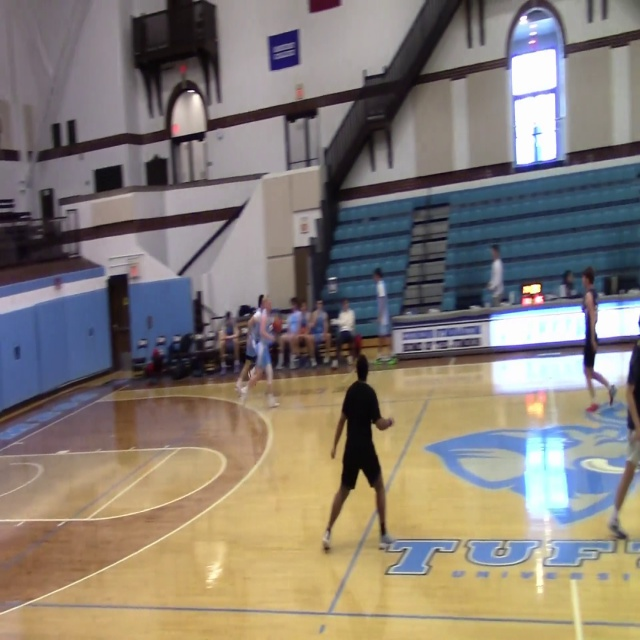Basketball: (272, 318, 282, 333)
